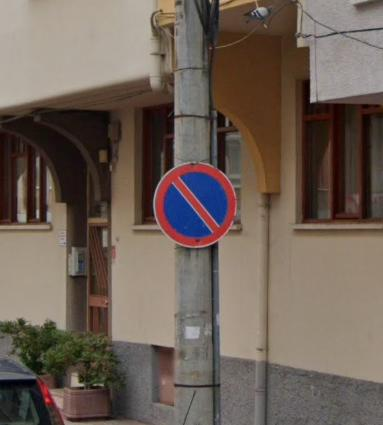nopark: (152, 159, 237, 248)
